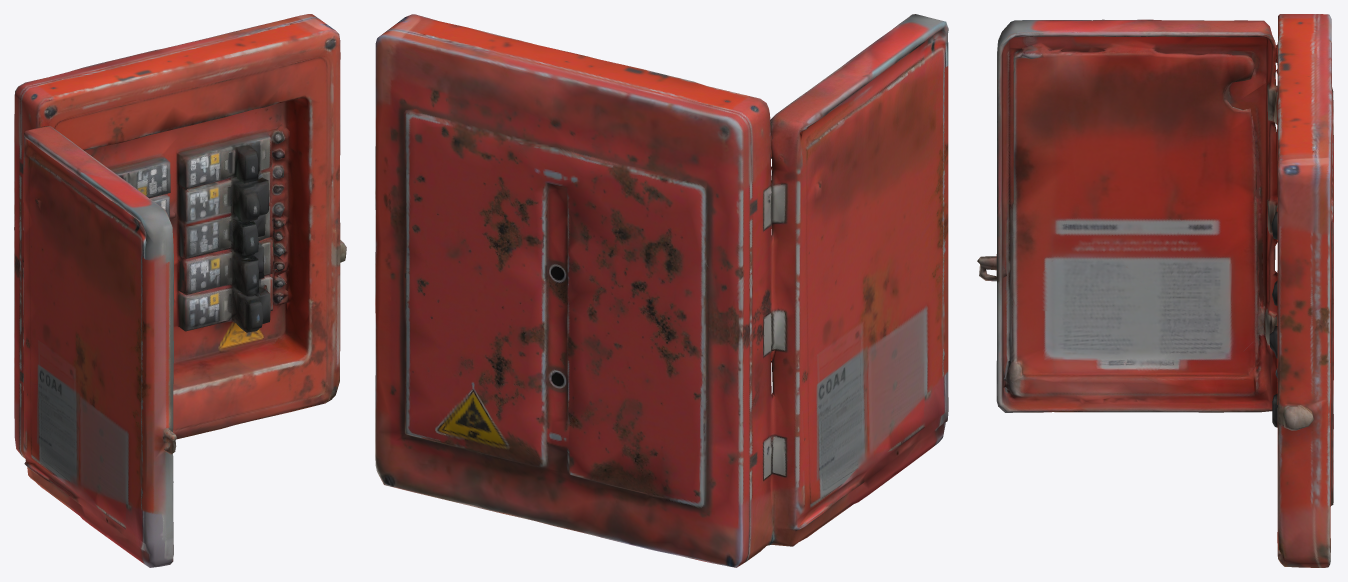
The model's file is Meshy_AI_caja_de_fusible_0323201350_texture.glb.
3 views of the same model, side by side, from view 1: azimuth 30°, elevation 25°; view 2: azimuth 150°, elevation 25°; view 3: azimuth 270°, elevation 25° (orthographic). The views are drawn at different scales.
Bounding box in the file's own units: 1.88 × 2 × 1.61.
1 material, 1 textured.
